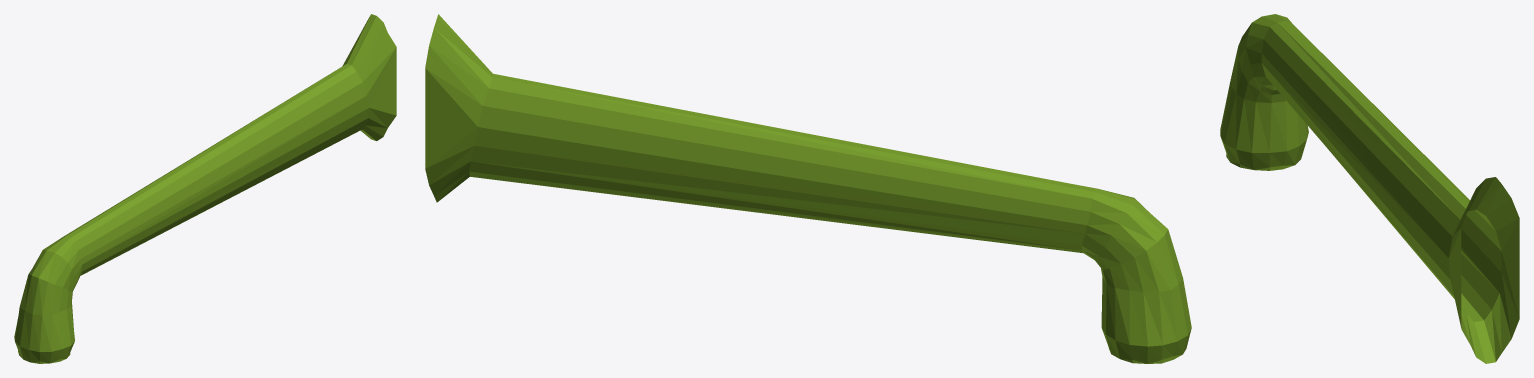
The picture shows the model from 3 angles, left to right: view 1: azimuth 30°, elevation 25°; view 2: azimuth 150°, elevation 25°; view 3: azimuth 270°, elevation 25°; orthographic projection. The views are drawn at different scales.
Bounding box in the file's own units: 0.5093 × 0.1999 × 0.2006.
